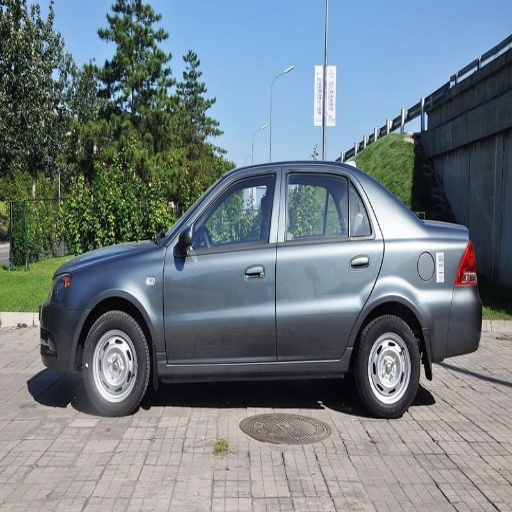back_left_door: (274, 169, 380, 364)
front_left_door: (164, 170, 281, 365)
